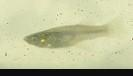Mosquito Fish: (23, 21, 117, 49)
